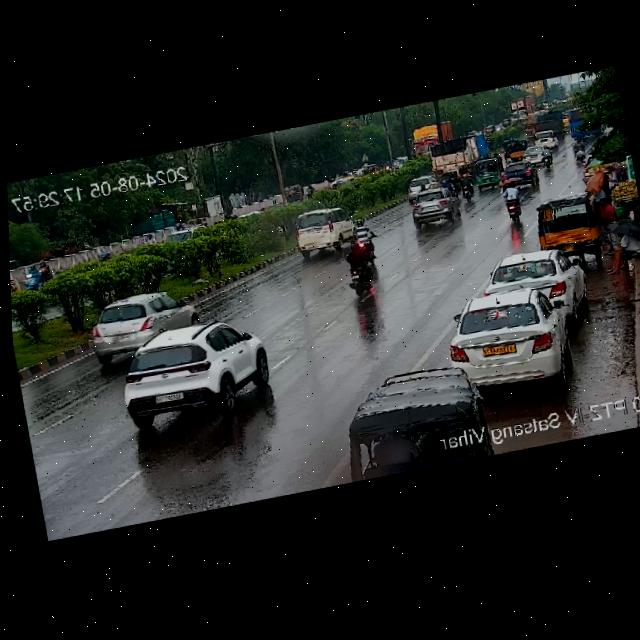bus: (565, 103, 604, 141)
car: (110, 310, 280, 441), (435, 279, 581, 410), (479, 240, 597, 333), (82, 283, 206, 367), (533, 192, 606, 270), (287, 202, 359, 260), (403, 185, 463, 232), (162, 222, 214, 247), (500, 157, 539, 190), (471, 156, 505, 191), (456, 170, 477, 204), (504, 138, 530, 159), (329, 174, 355, 193), (10, 257, 22, 296), (283, 184, 305, 203)
motorcycle: (341, 239, 381, 301), (348, 215, 381, 265), (498, 181, 525, 224), (22, 261, 44, 290), (567, 140, 589, 164), (36, 256, 53, 285), (536, 145, 554, 168), (304, 184, 315, 198)
person: (600, 221, 640, 277), (595, 194, 619, 225), (602, 162, 622, 189)
truck: (427, 130, 493, 179), (409, 120, 457, 161), (503, 94, 538, 127), (536, 109, 568, 142), (523, 113, 544, 140)
